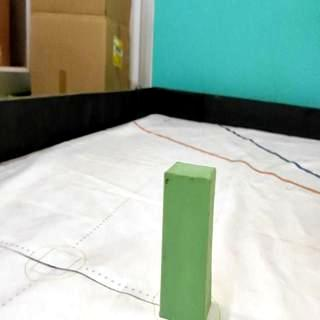greenbox: (158, 159, 216, 320)
